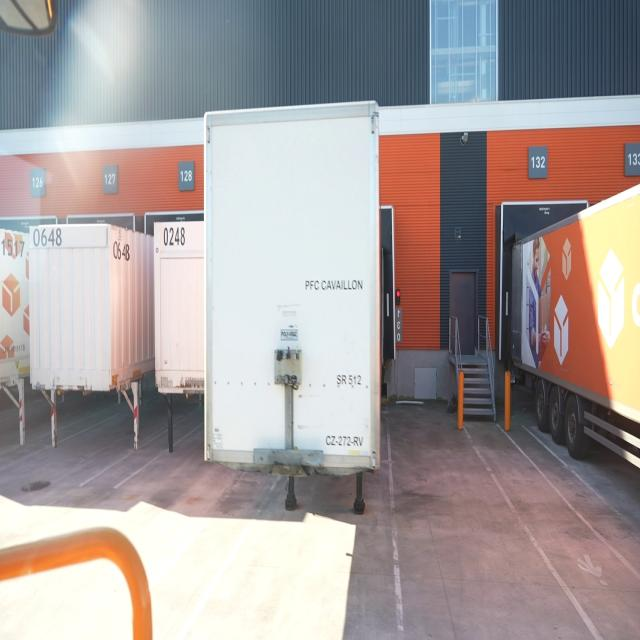Code: (31, 224, 62, 252), (1, 228, 27, 260), (162, 224, 187, 248), (110, 238, 130, 266)
